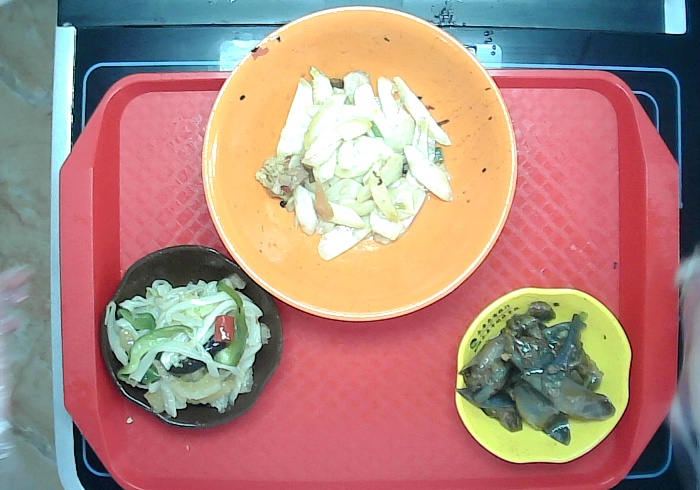YKMZ-Huang_Se_Ao_Bian_Wan: (452, 285, 633, 465)
YKMZ-Ju_Se_Tang_Wan: (198, 3, 522, 323)
YKMZ-Ka_Fei_Ao_Bian_Wan: (100, 244, 284, 431)
